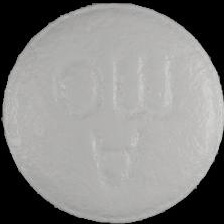63629-3636: (0, 0, 224, 224)
